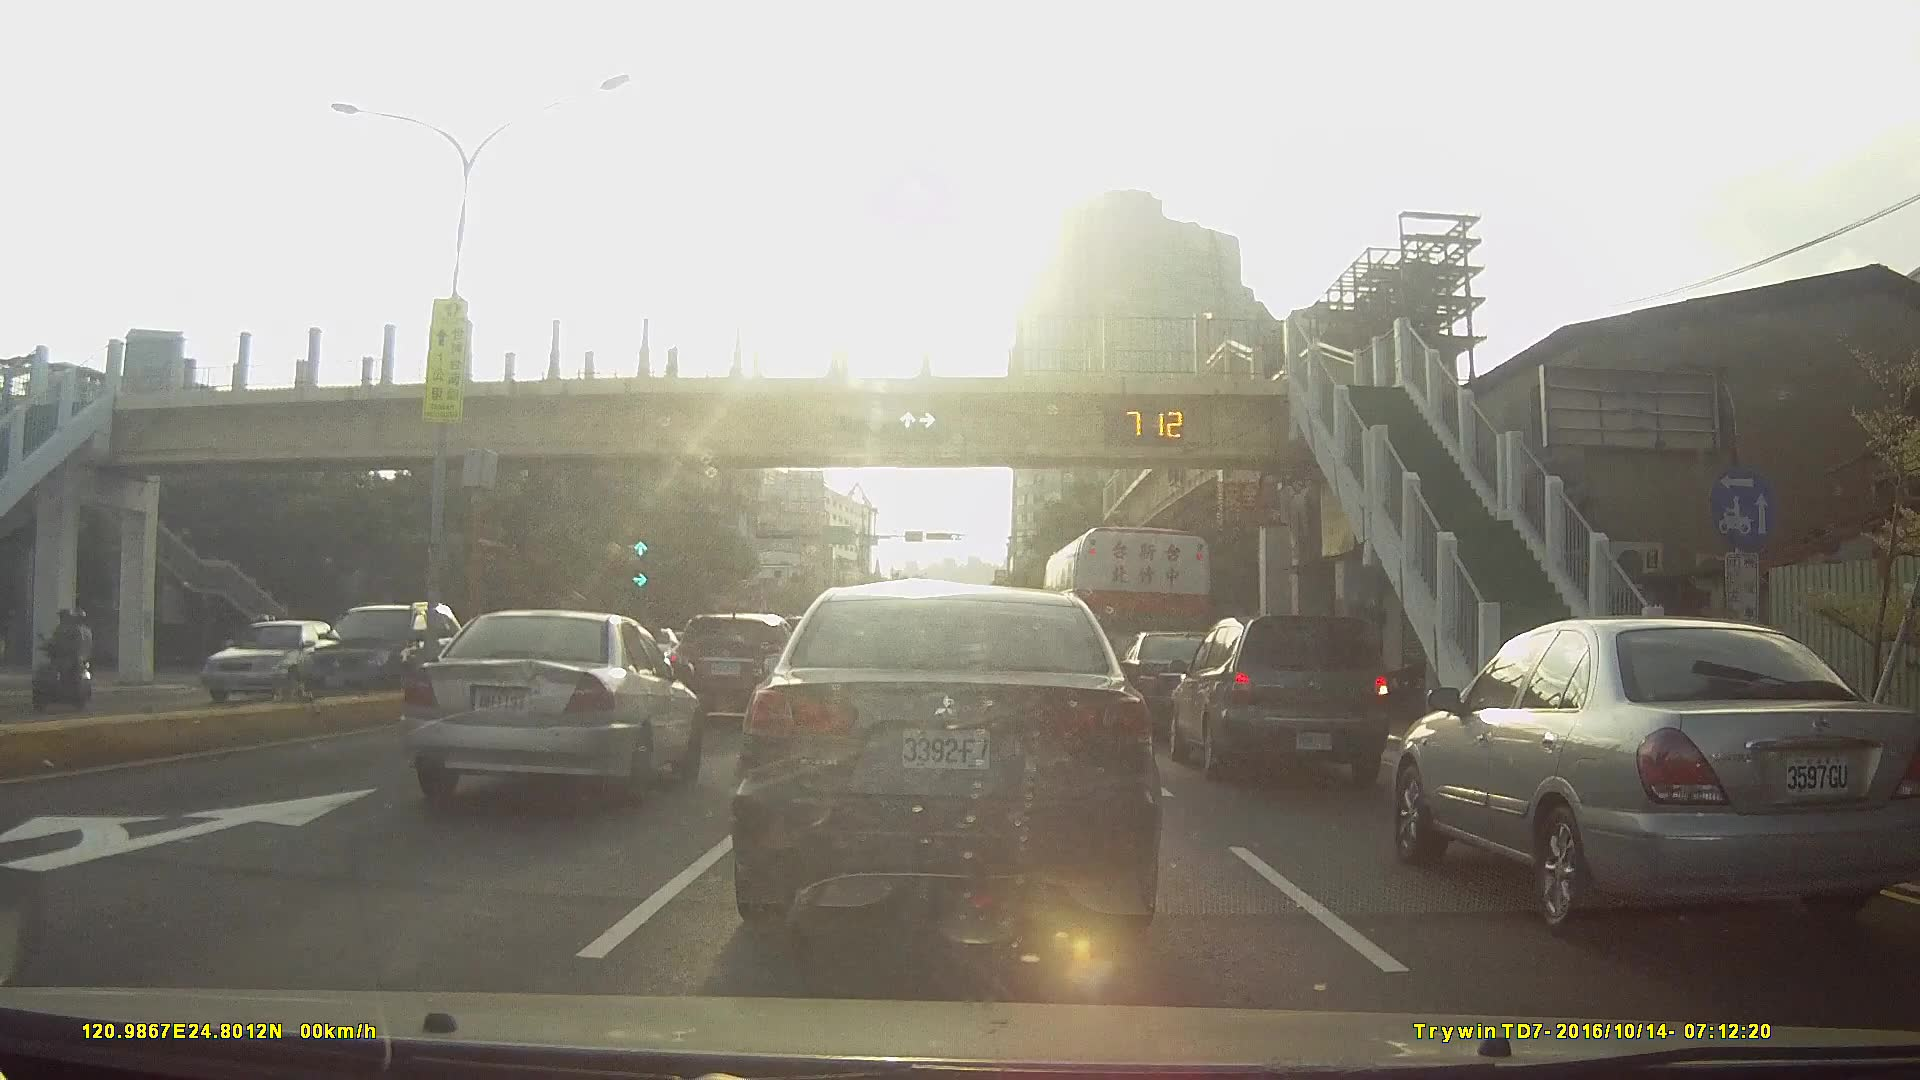rider: (22, 609, 90, 709)
vehicle: (1399, 612, 1920, 938), (727, 573, 1166, 954), (404, 604, 704, 794), (1170, 609, 1409, 783), (288, 594, 491, 715), (181, 618, 355, 708), (668, 606, 803, 718), (1117, 629, 1250, 732)
